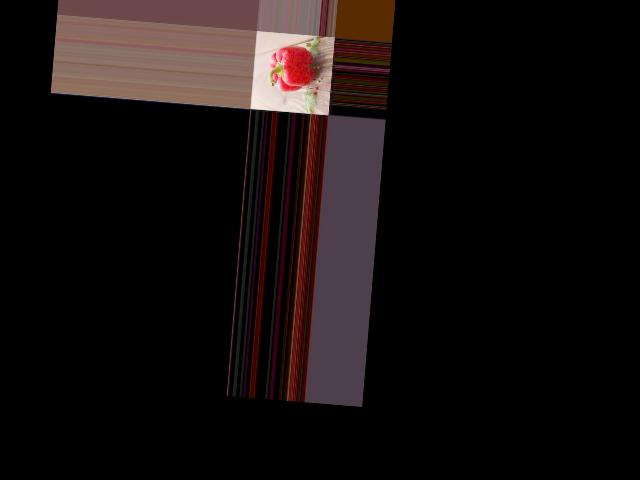bell_pepper: (263, 40, 317, 96)
